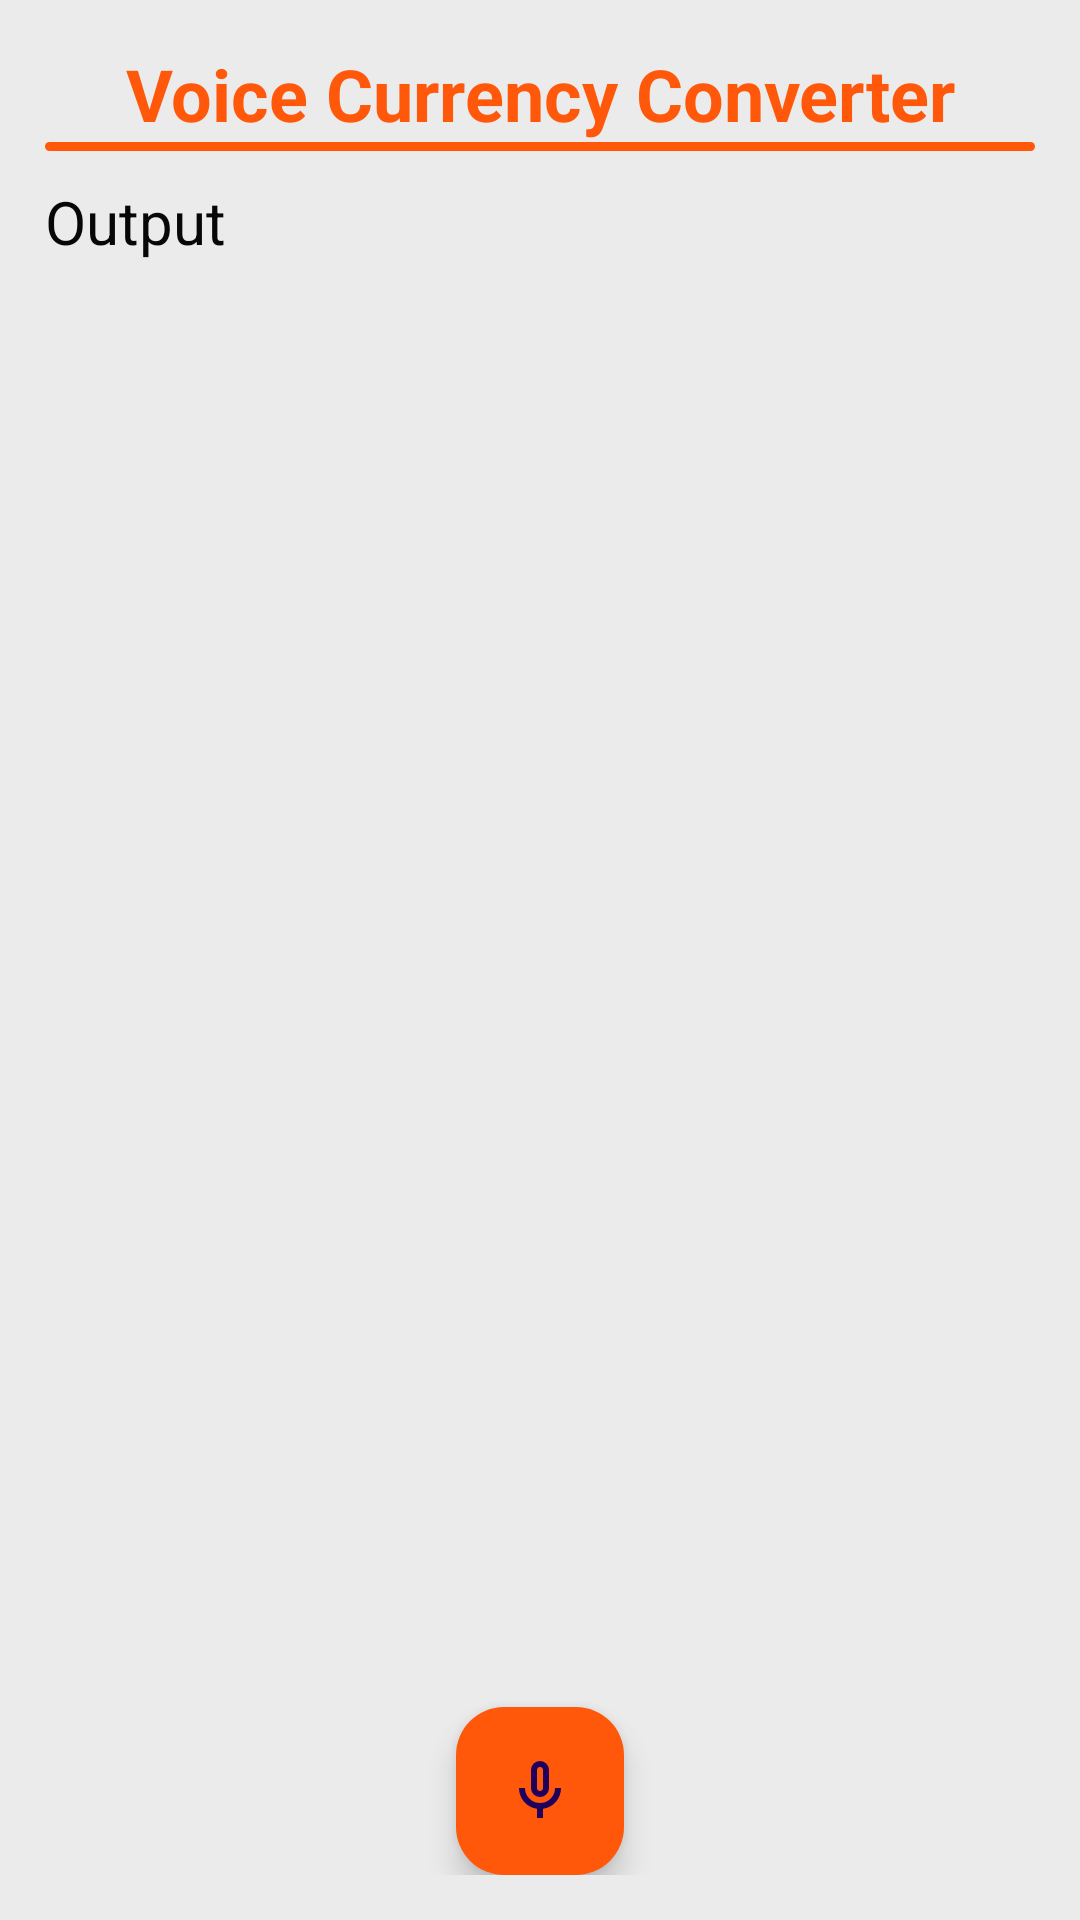

Icon click points for this 1080×1920 phone screenshot, format point (x, y):
mic: point (540, 1791)
